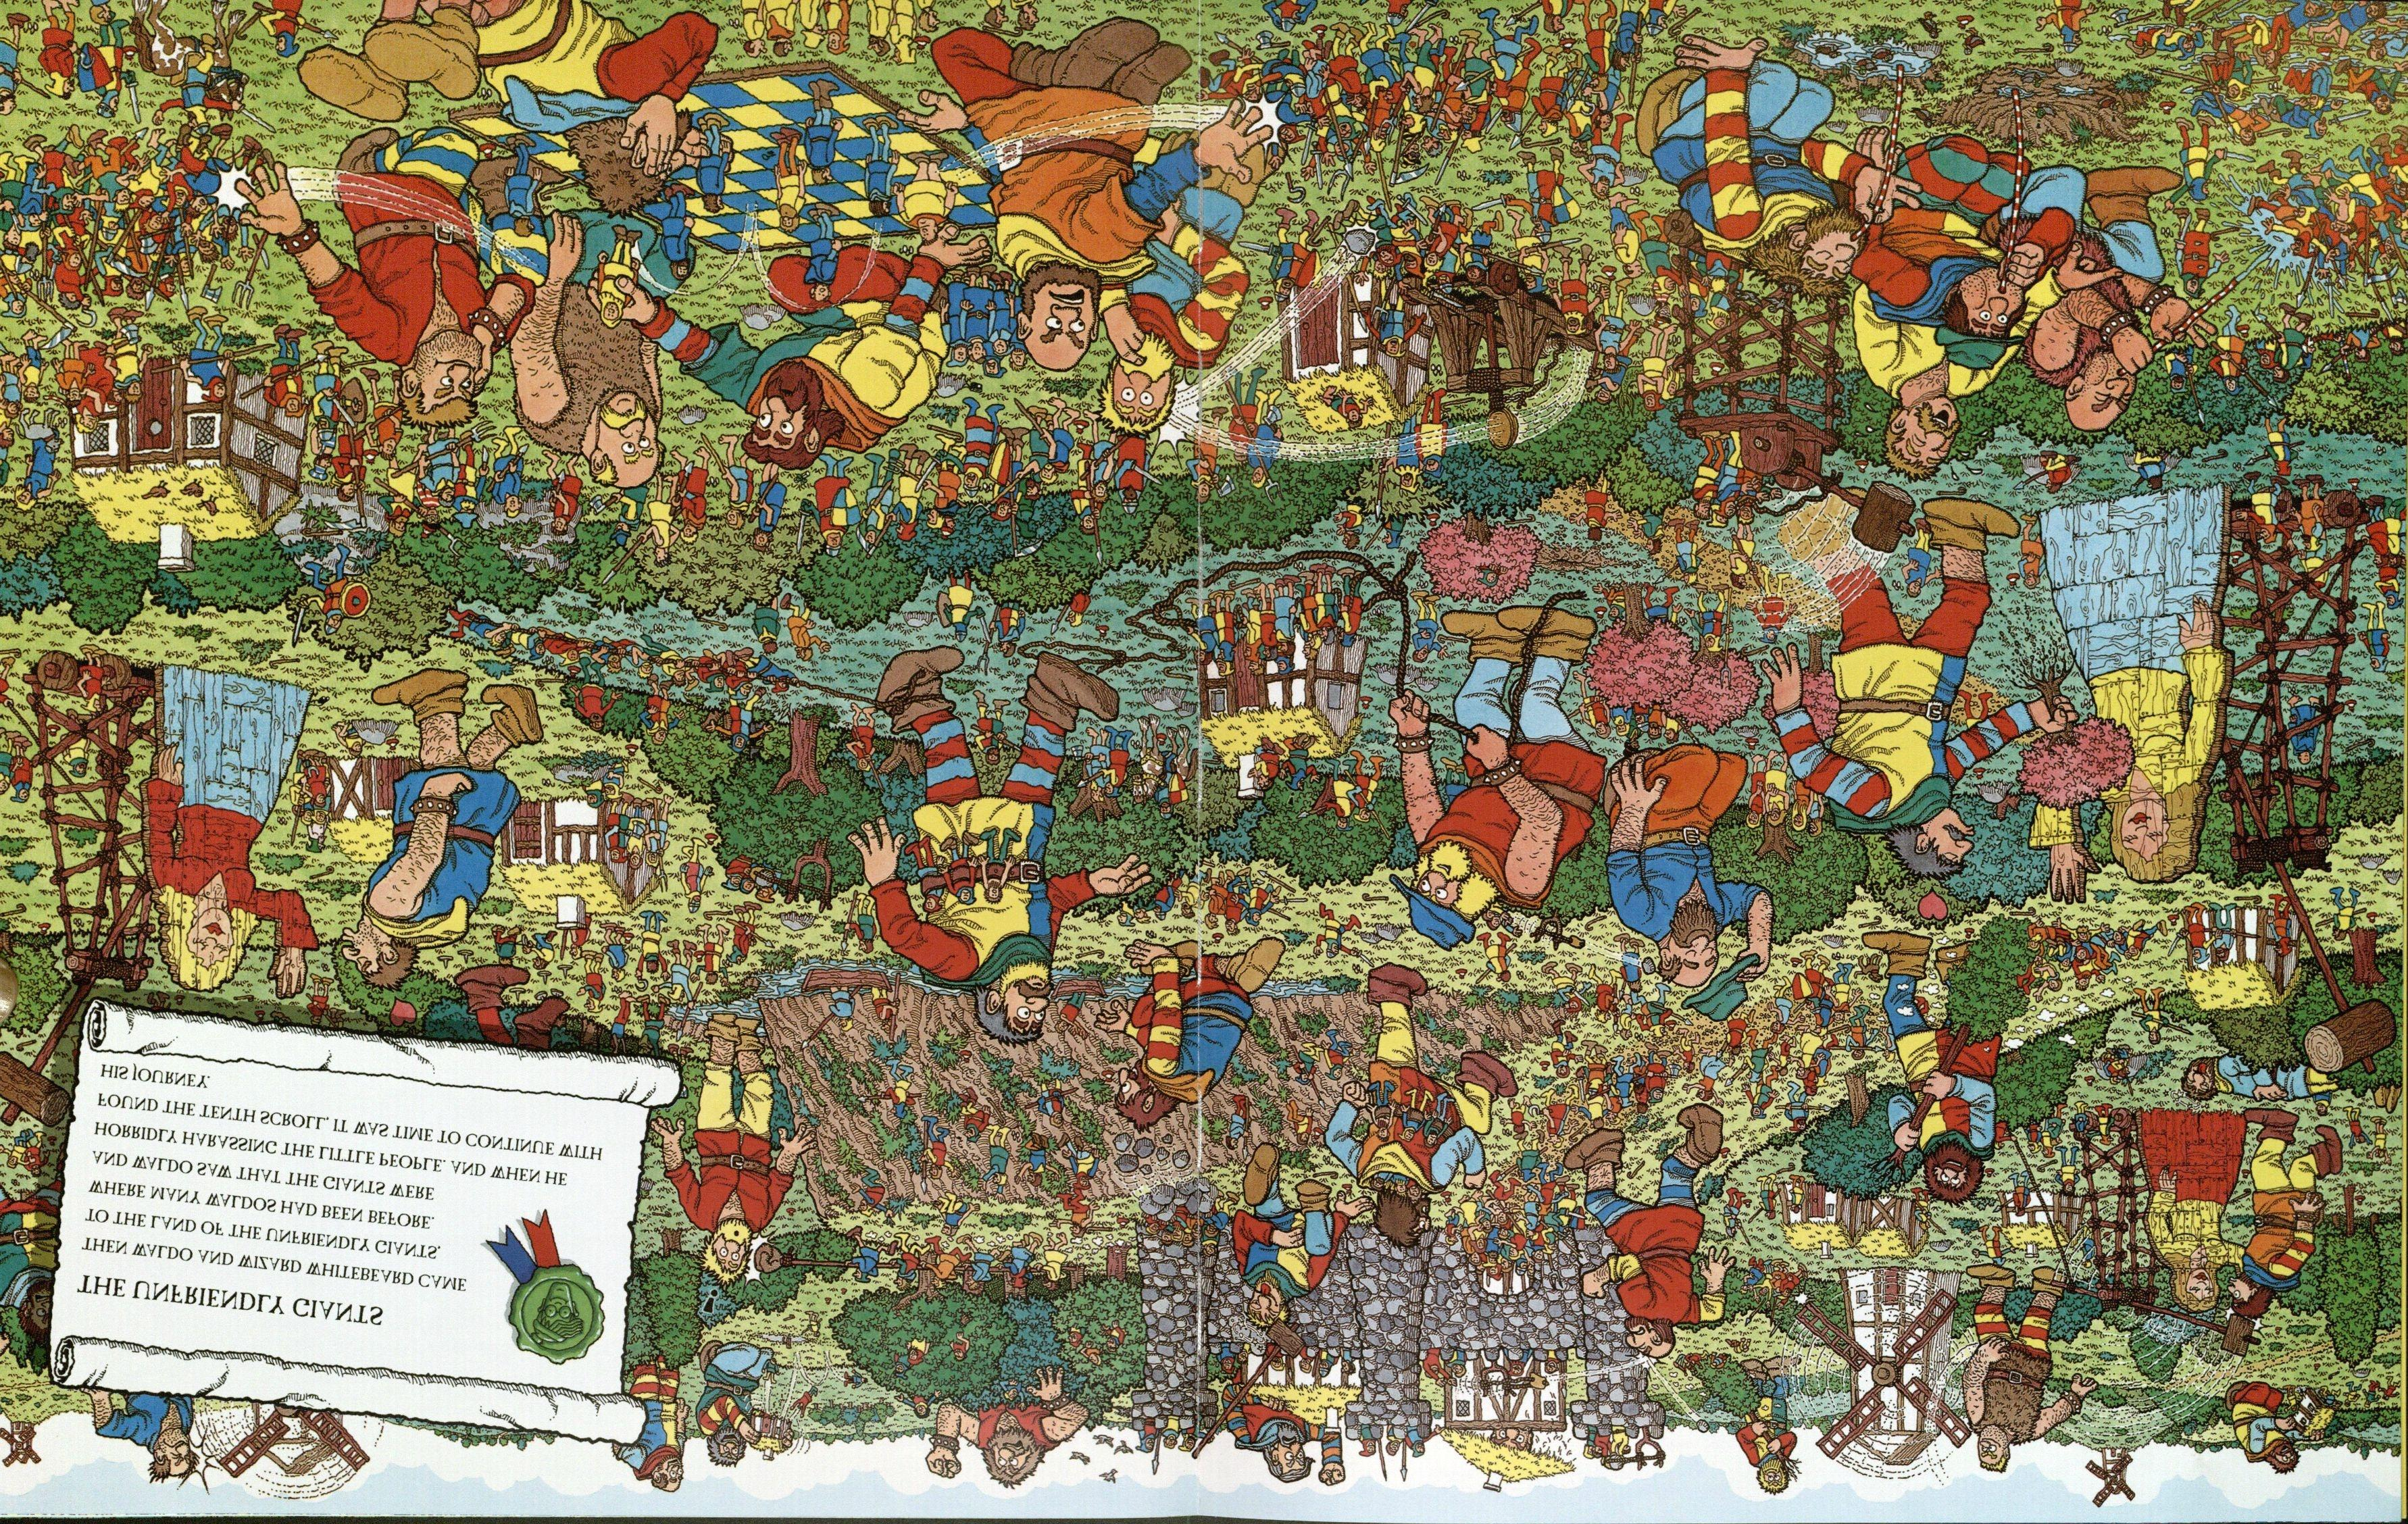waldos: (412, 478, 444, 541)
